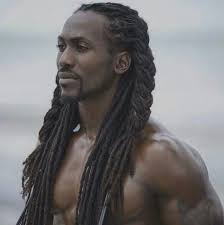black_male: (37, 2, 161, 119)
